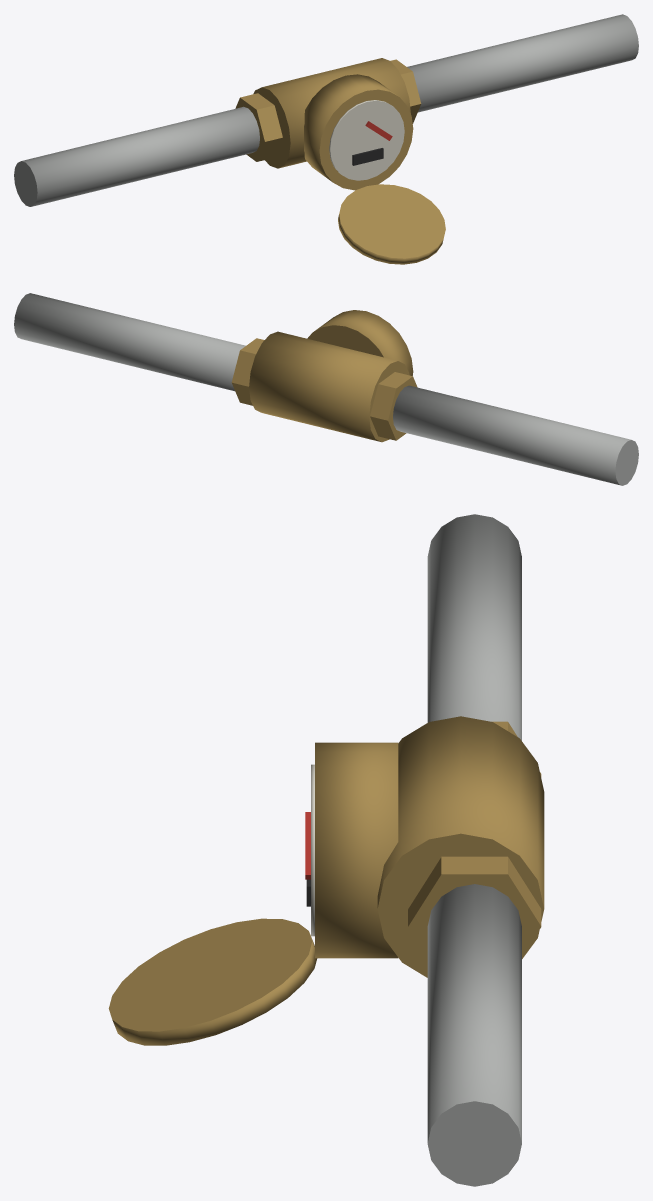
Rendered from flowmeter_ew.obj.
3 renders of one model, top to bottom at view 1: azimuth 30°, elevation 25°; view 2: azimuth 150°, elevation 25°; view 3: azimuth 270°, elevation 25°, orthographic. The views are drawn at different scales.
Visible parts, largest first — view 1: pipe8, pipe2, meter_lid, meter_register, meter_body, meter_dial, meter_nut8, meter_nut2, meter_wheels; view 2: pipe8, meter_body, pipe2, meter_register, meter_nut8, meter_nut2; view 3: pipe2, meter_body, pipe8, meter_lid, meter_register, meter_nut2.
Part boxes in pixels (bbox=[...]): pipe8: bbox=[14, 106, 259, 206]; pipe2: bbox=[407, 14, 638, 112]; meter_lid: bbox=[338, 184, 445, 264]; meter_register: bbox=[304, 74, 413, 190]; meter_body: bbox=[253, 58, 410, 168]; meter_dial: bbox=[329, 100, 404, 180]; meter_nut8: bbox=[235, 93, 282, 161]; meter_nut2: bbox=[390, 59, 421, 123]; meter_wheels: bbox=[352, 148, 383, 165]; pipe8: bbox=[393, 385, 638, 485]; meter_body: bbox=[249, 331, 409, 442]; pipe2: bbox=[14, 293, 245, 391]; meter_register: bbox=[307, 310, 413, 375]; meter_nut8: bbox=[370, 372, 417, 440]; meter_nut2: bbox=[231, 338, 264, 405]; pipe2: bbox=[427, 884, 521, 1186]; meter_body: bbox=[377, 716, 544, 977]; pipe8: bbox=[427, 514, 521, 740]; meter_lid: bbox=[108, 918, 317, 1045]; meter_register: bbox=[315, 742, 398, 958]; meter_nut2: bbox=[408, 856, 541, 956].
Size of the model in its own units: 1 by 0.215 by 0.3136.
Materials: 5 (5 with a texture image).
